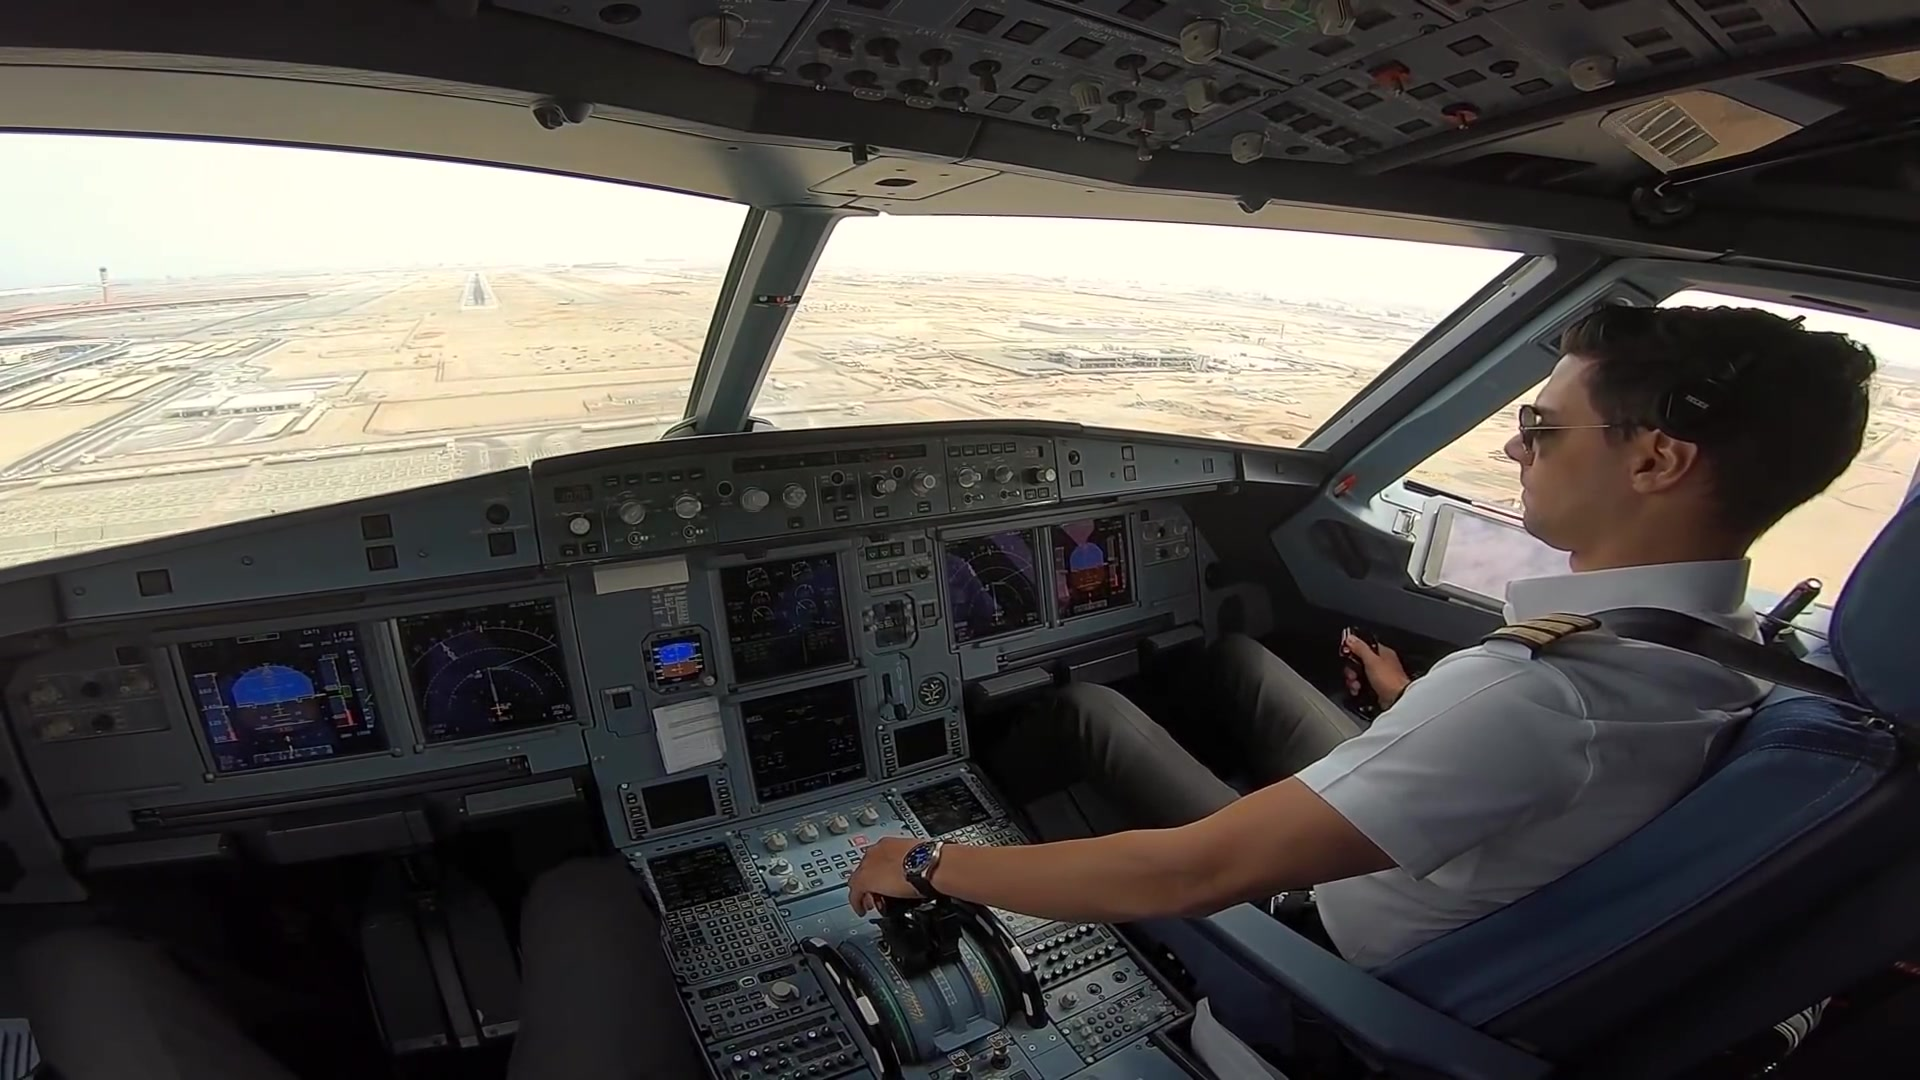runway: (460, 270, 501, 311)
